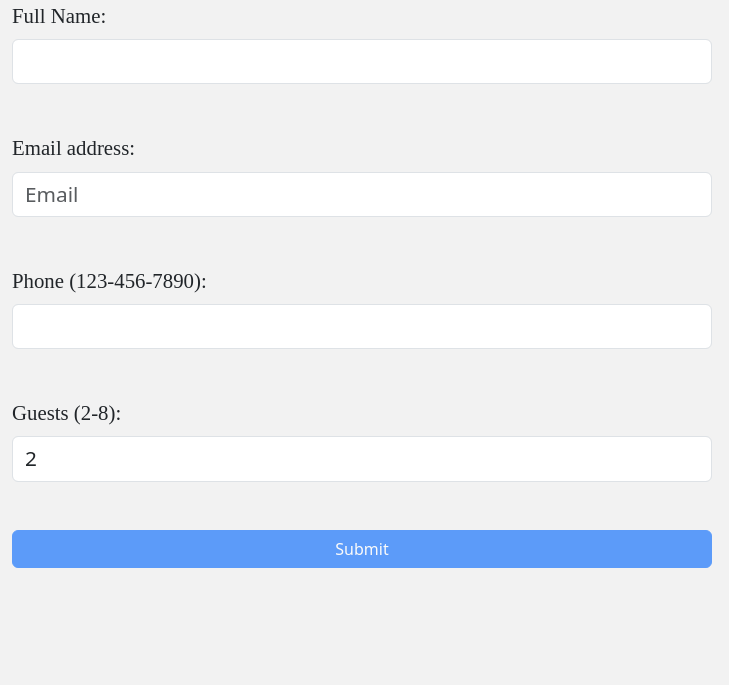
Scenario: BookingForm Validation › shows error messages for invalid "bad data" inputs
Enter bad name (numbers)
In the field labelled "Full Name:": coordinates (362, 62) x1=12 y1=39 x2=712 y2=84, type "John123"
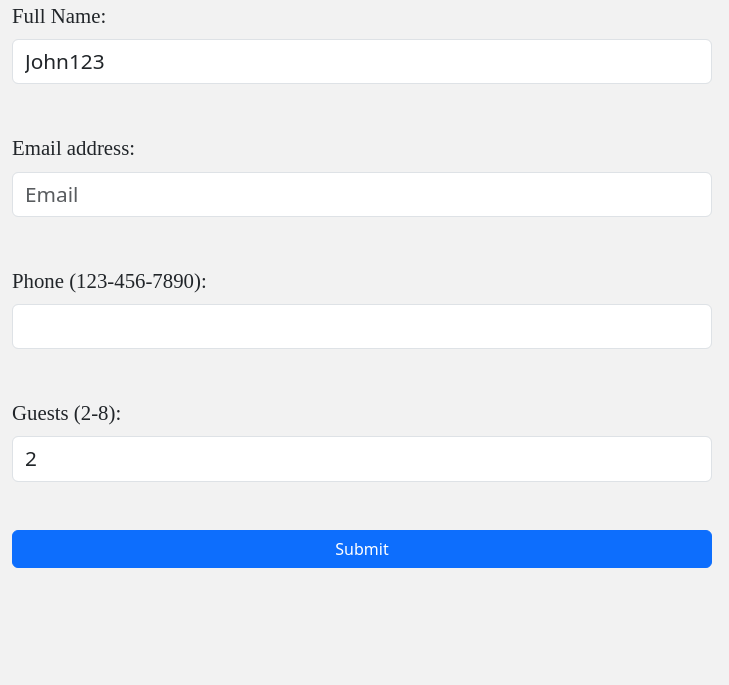
Enter bad email
In the field labelled "Email address:": coordinates (362, 194) x1=12 y1=172 x2=712 y2=217, type "not-an-email"
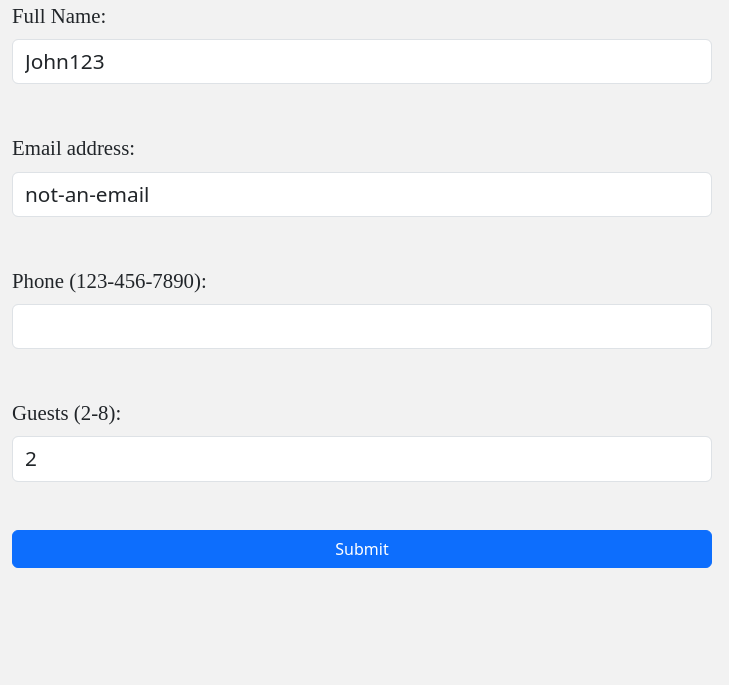
Enter bad phone format
In the field labelled "Phone (123-456-7890):": coordinates (362, 326) x1=12 y1=304 x2=712 y2=349, type "1234567890"
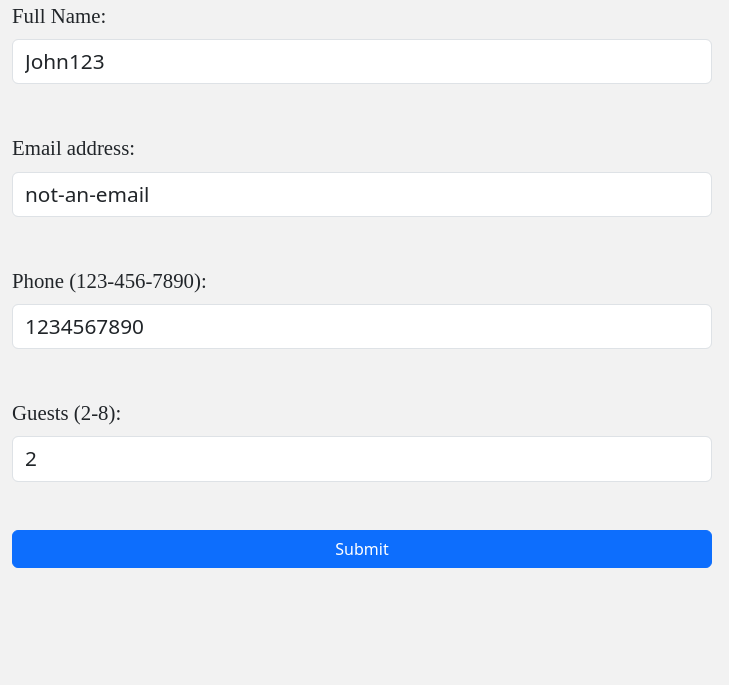
Enter guest count out of range
Replace the text in the number field labelled "Guests (2-8):" with "10": coordinates (362, 459) x1=12 y1=436 x2=712 y2=482
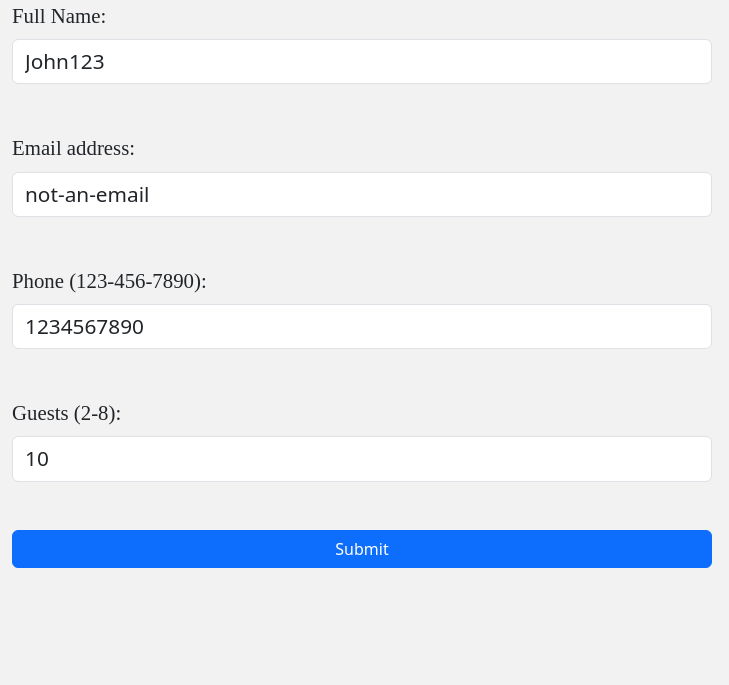
Leave the number field labelled "Guests (2-8):", box x1=12 y1=436 x2=712 y2=482
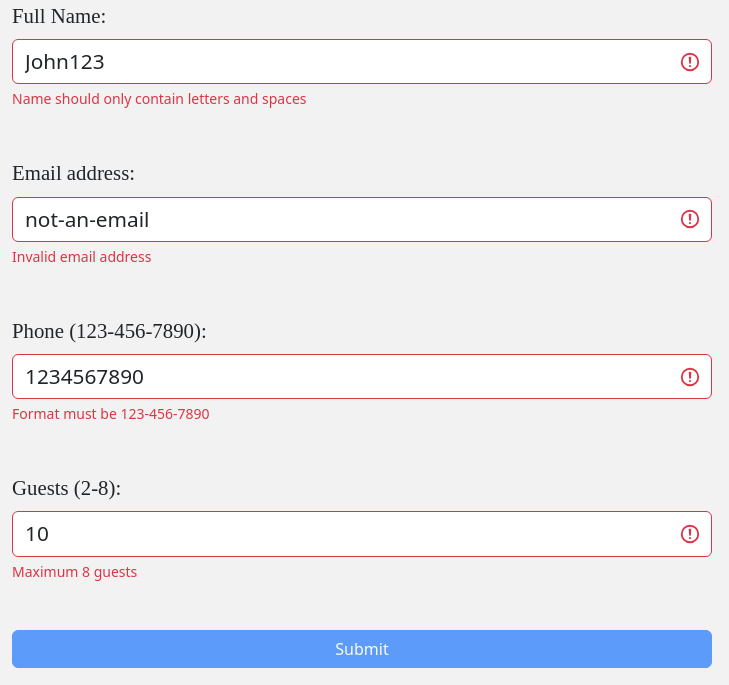
Check: the text "Name should only contain letters and spaces" is shown, box x1=12 y1=89 x2=306 y2=108
Check: the text "Invalid email address" is shown, box x1=12 y1=247 x2=151 y2=266
Check: the text "Format must be 123-456-7890" is shown, box x1=12 y1=404 x2=210 y2=423
